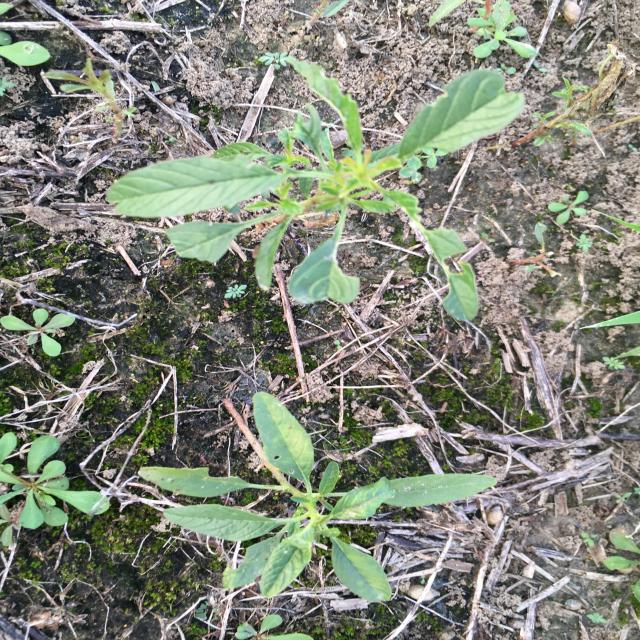Carpetweed: (1, 432, 114, 531), (3, 308, 73, 357)
Waterhemp: (102, 55, 528, 322), (138, 389, 500, 604)
